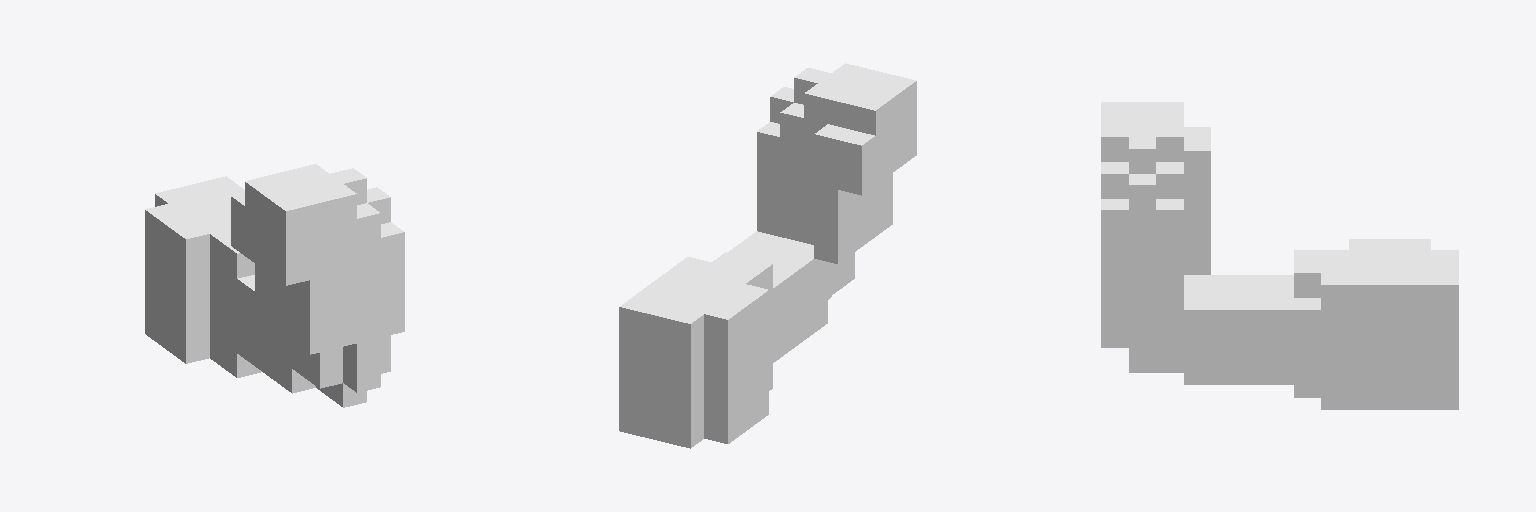
File: anubis_voxB-4-armR.obj
3 renders of one model, left to right at view 1: azimuth 30°, elevation 25°; view 2: azimuth 150°, elevation 25°; view 3: azimuth 270°, elevation 25°, orthographic.
Parts seen in each view (by area): view 1: armR; view 2: armR; view 3: armR.
Boxes of the visible parts, x1=… form: armR: x1=145, y1=164, x2=404, y2=407; armR: x1=619, y1=63, x2=916, y2=448; armR: x1=1101, y1=102, x2=1458, y2=409.
Bounding box in the file's own units: 0.5 × 1 × 1.3.